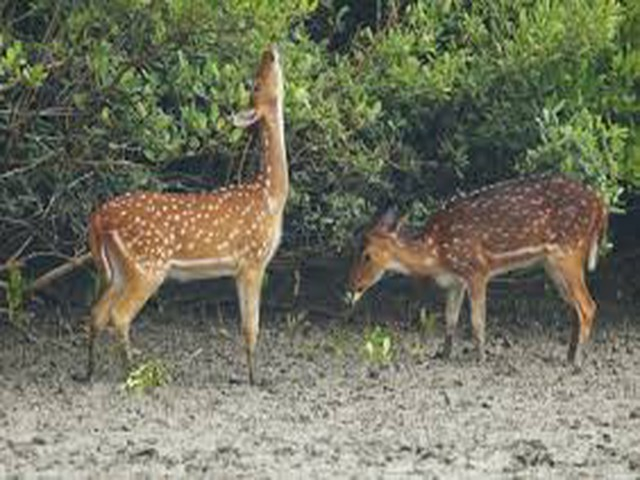deer: (81, 46, 292, 382), (344, 172, 617, 371)
